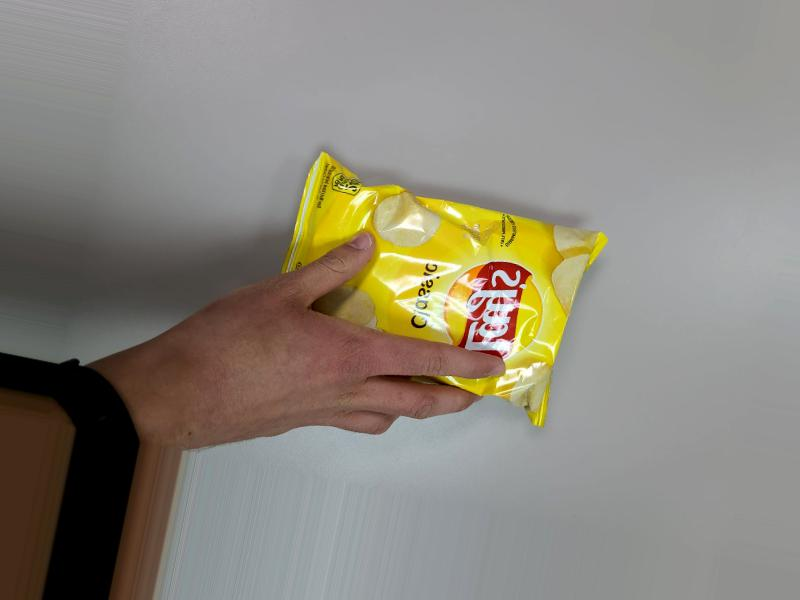lays: (251, 175, 600, 429)
